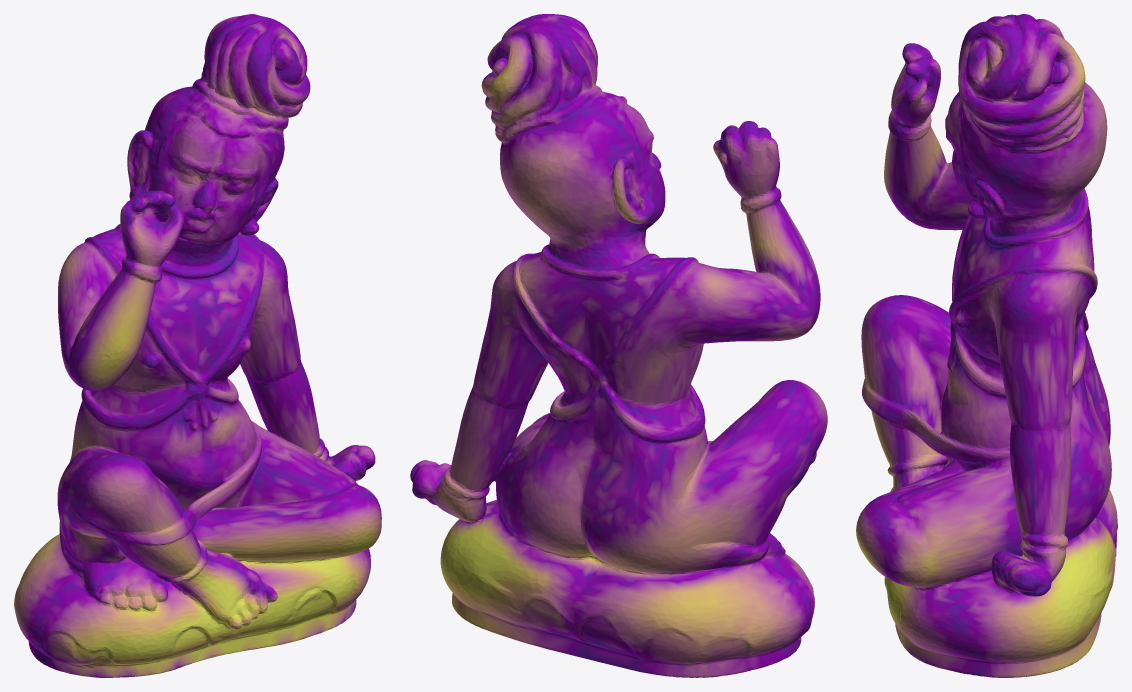
Rendered from iter_6.glb.
3 renders of one model, left to right at view 1: azimuth 30°, elevation 25°; view 2: azimuth 150°, elevation 25°; view 3: azimuth 270°, elevation 25°, orthographic. The views are drawn at different scales.
Visible parts, largest first — view 1: textured_mesh; view 2: textured_mesh; view 3: textured_mesh.
Boxes of the visible parts, <box> form: textured_mesh: <box>14,14,381,677</box>; textured_mesh: <box>410,14,827,677</box>; textured_mesh: <box>856,14,1117,677</box>.
Size of the model in its own units: 1.32 by 1.99 by 0.7702.
